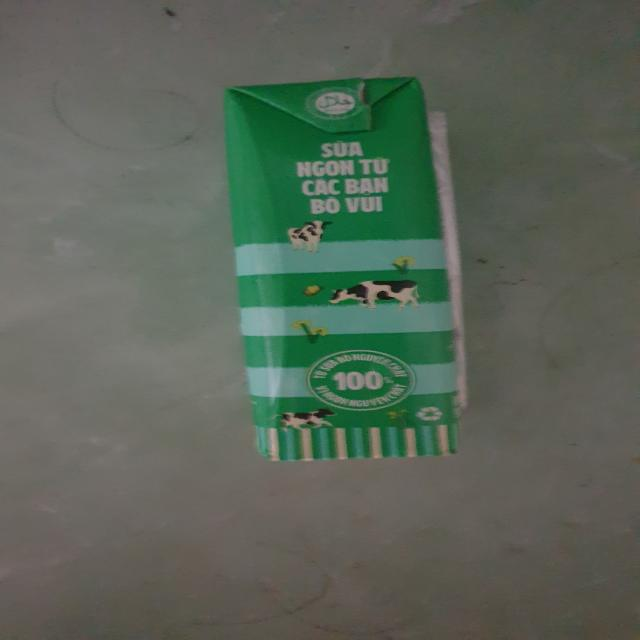Vina: (217, 73, 482, 470)
